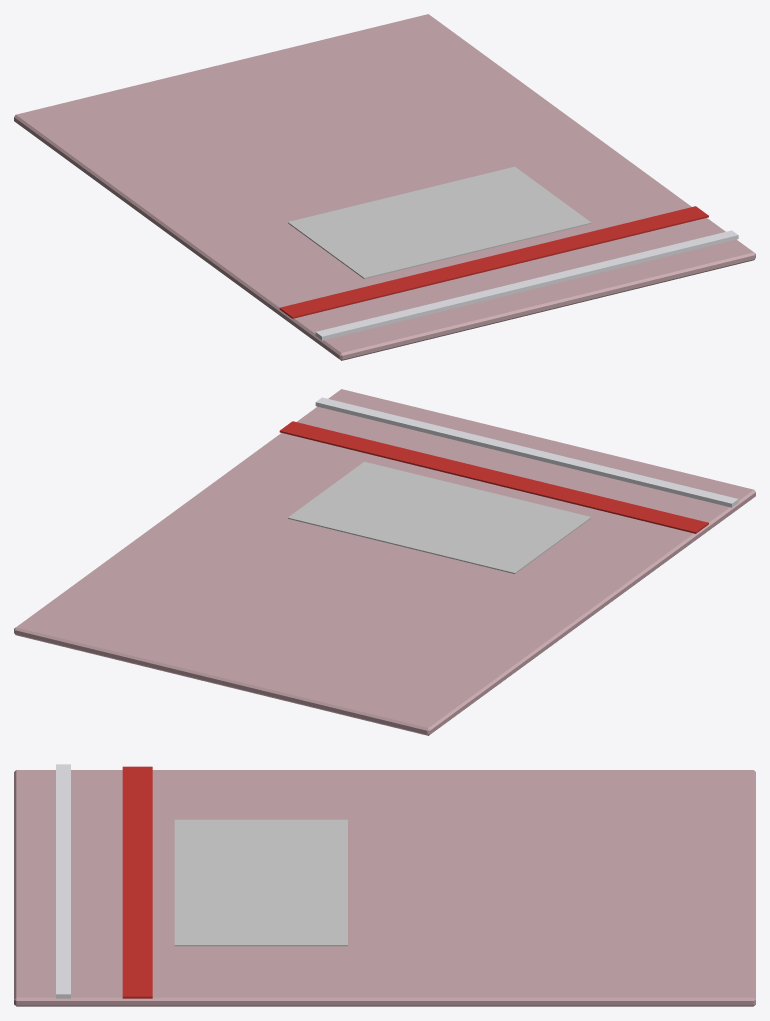
Rendered from saco_evidencia.obj.
3 views of the same model, one above another, from view 1: azimuth 30°, elevation 25°; view 2: azimuth 150°, elevation 25°; view 3: azimuth 270°, elevation 25° (orthographic). The views are drawn at different scales.
Parts seen in each view (by area): view 1: saco_evidencia; view 2: saco_evidencia; view 3: saco_evidencia.
Part boxes in pixels (box(x1,y1,x2,y2)): saco_evidencia: box(14, 14, 755, 360); saco_evidencia: box(14, 389, 755, 735); saco_evidencia: box(14, 764, 755, 1006).
Bounding box in the file's own units: 0.22 × 0.006 × 0.3.
